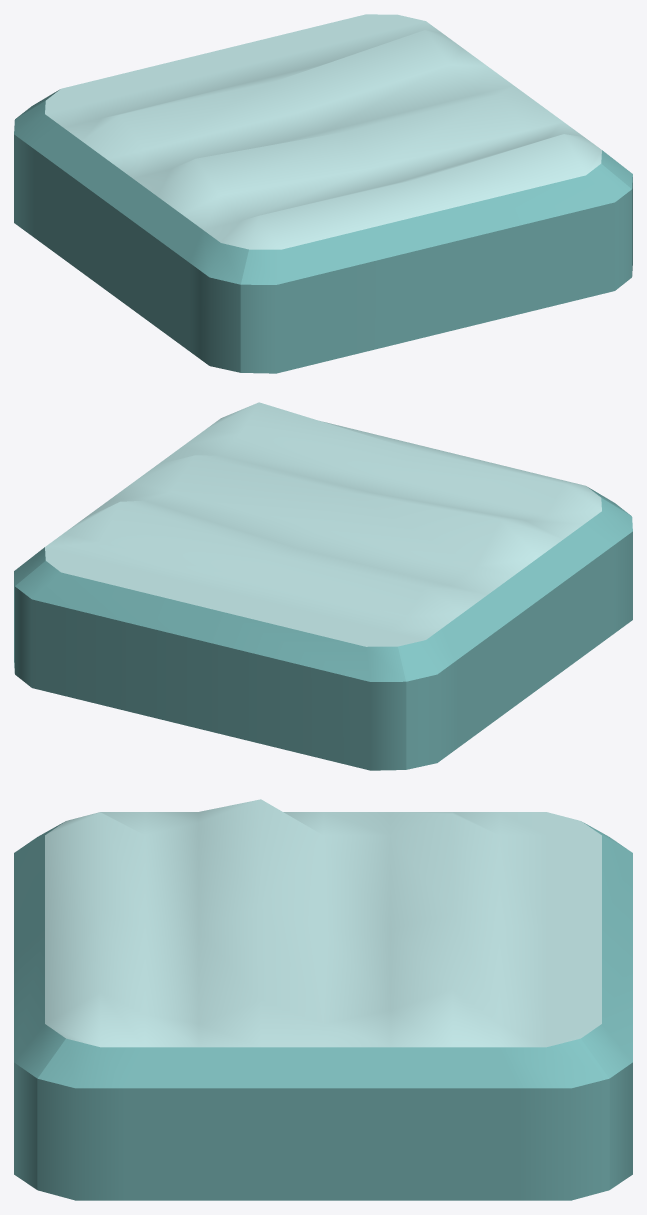
File: Tile_Snow.fbx
3 views of the same model, one above another, from view 1: azimuth 30°, elevation 25°; view 2: azimuth 150°, elevation 25°; view 3: azimuth 270°, elevation 25° (orthographic). The views are drawn at different scales.
Visible parts, largest first — view 1: snowTile; view 2: snowTile; view 3: snowTile.
Part boxes in pixels (<box>): snowTile: <box>14,14,632,373</box>; snowTile: <box>14,402,632,770</box>; snowTile: <box>14,799,632,1200</box>.
Bounding box in the file's own units: 0.3937 × 0.1238 × 0.3937.
